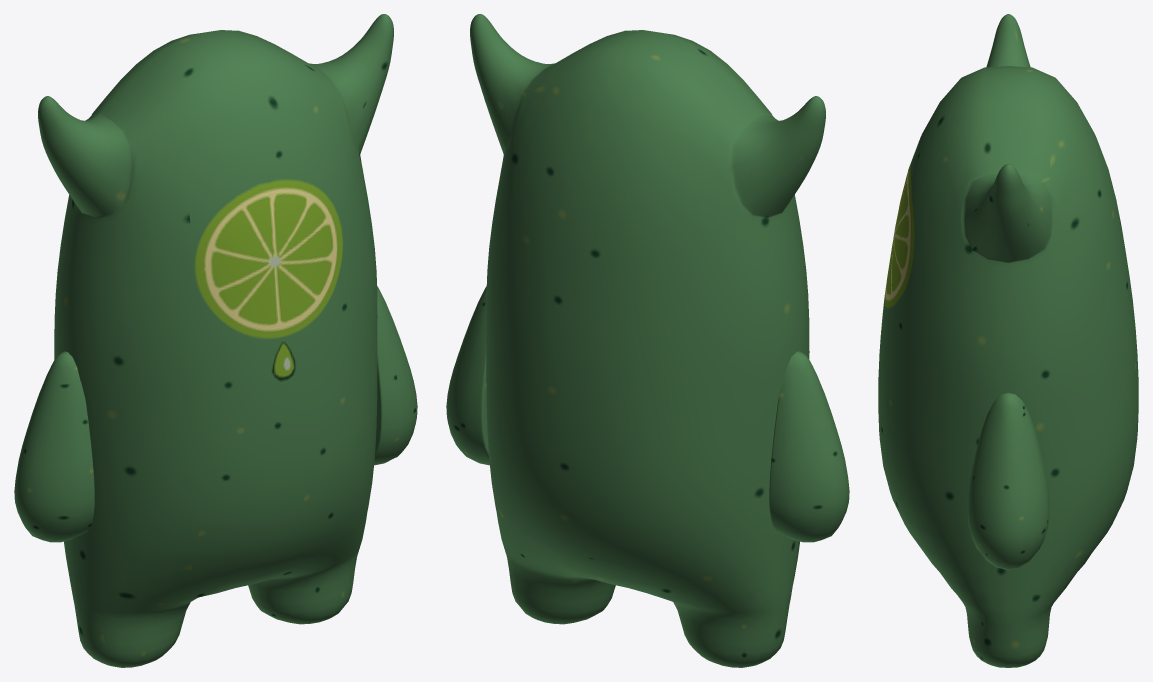
The model's file is personsoil.glb.
The picture shows the model from 3 angles, left to right: view 1: azimuth 30°, elevation 25°; view 2: azimuth 150°, elevation 25°; view 3: azimuth 270°, elevation 25°; orthographic projection. The views are drawn at different scales.
Visible parts, largest first — view 1: Lima_Body_01, Lima_Arm_RT_01, Lima_Arm_LT_01; view 2: Lima_Body_01, Lima_Arm_RT_01, Lima_Arm_LT_01; view 3: Lima_Body_01, Lima_Arm_LT_01.
Part boxes in pixels (x1,y1,x2,y2): Lima_Body_01: (38, 14, 393, 667); Lima_Arm_RT_01: (14, 351, 94, 542); Lima_Arm_LT_01: (374, 286, 417, 465); Lima_Body_01: (470, 14, 825, 667); Lima_Arm_RT_01: (769, 351, 849, 542); Lima_Arm_LT_01: (446, 286, 489, 465); Lima_Body_01: (878, 14, 1138, 667); Lima_Arm_LT_01: (967, 393, 1049, 569).
Size of the model in its own units: 11.1 by 15.96 by 6.95.
Materials: 1 (1 with a texture image).
